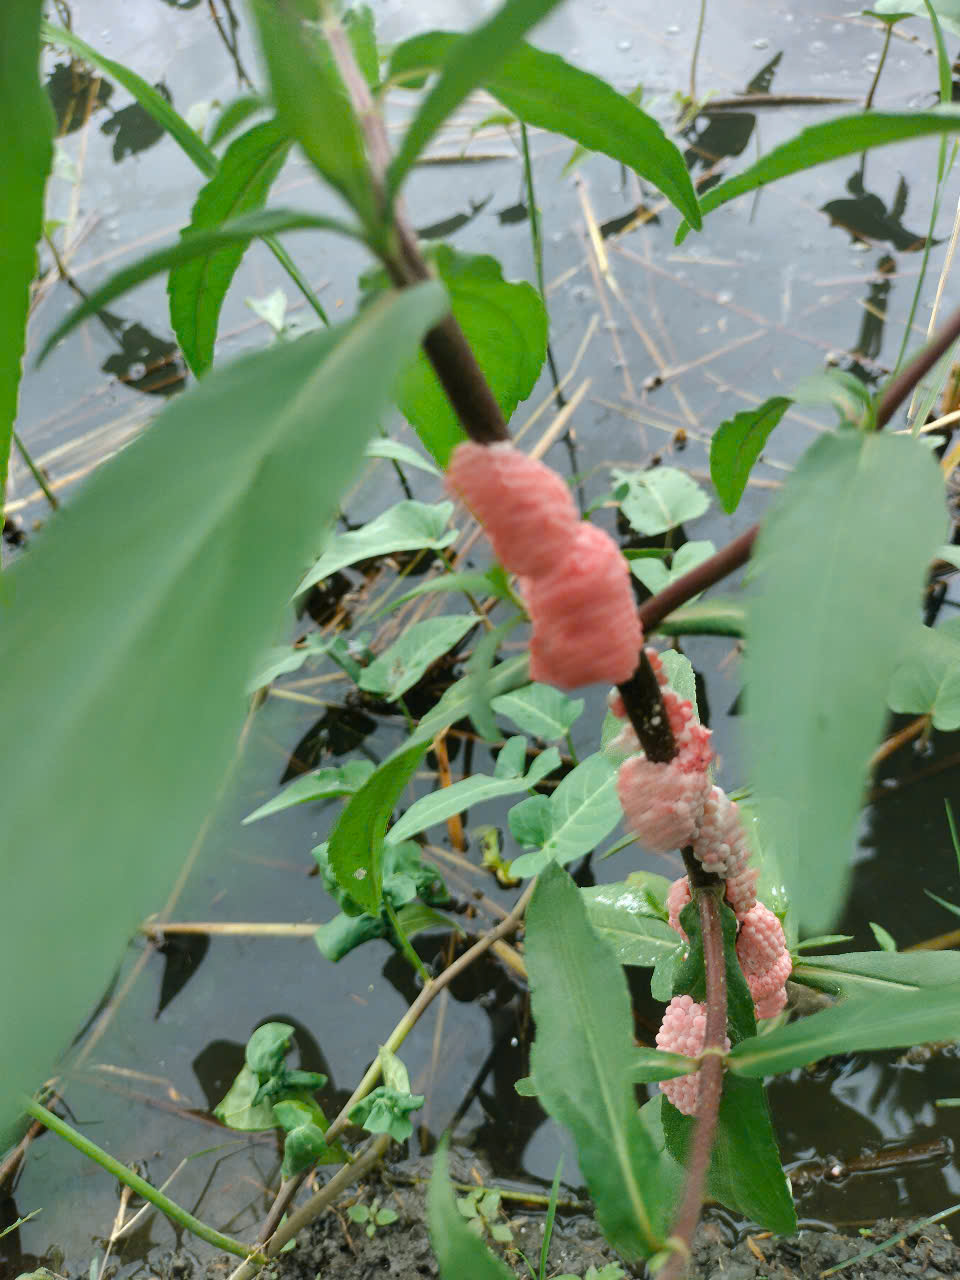trung_oc_buou_vang: (402, 450, 800, 1096)
